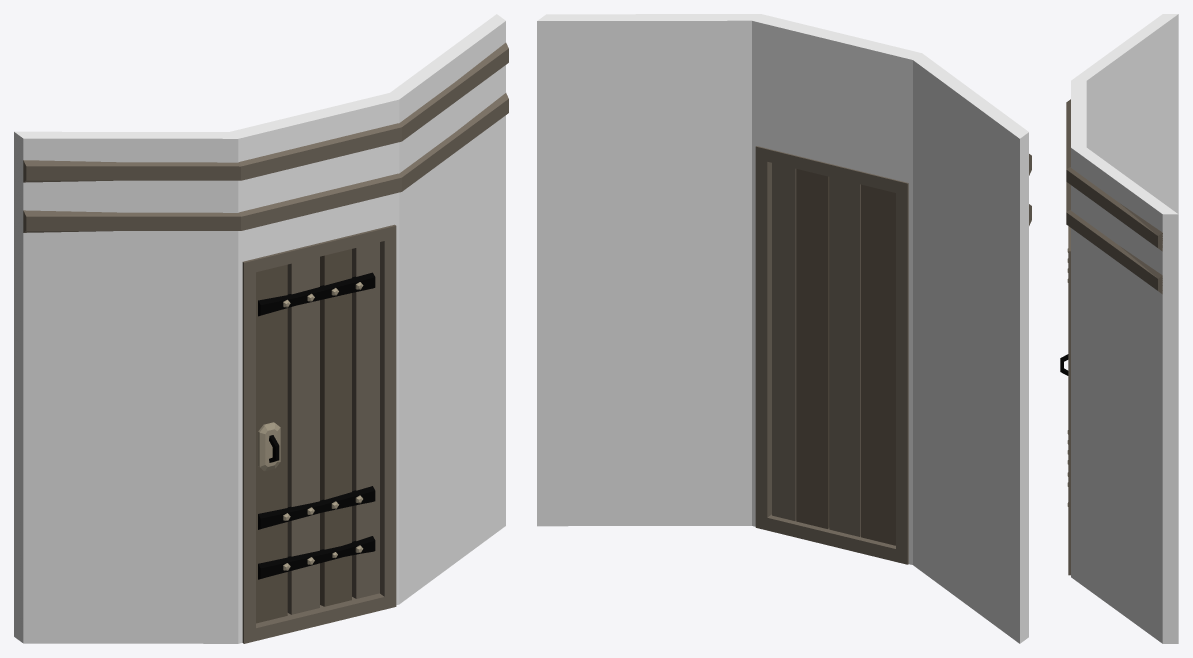
File: DOOR_06_Balkon_1.fbx
3 views of the same model, side by side, from view 1: azimuth 30°, elevation 25°; view 2: azimuth 150°, elevation 25°; view 3: azimuth 270°, elevation 25° (orthographic). The views are drawn at different scales.
Parts seen in each view (by area): view 1: DOOR_06_Balkon_1; view 2: DOOR_06_Balkon_1; view 3: DOOR_06_Balkon_1.
Part boxes in pixels (left/top/right/bottom): DOOR_06_Balkon_1: left=14, top=14, right=508, bottom=643; DOOR_06_Balkon_1: left=537, top=14, right=1031, bottom=643; DOOR_06_Balkon_1: left=1060, top=14, right=1178, bottom=643.
Size of the model in its own units: 300 by 300 by 74.81.
